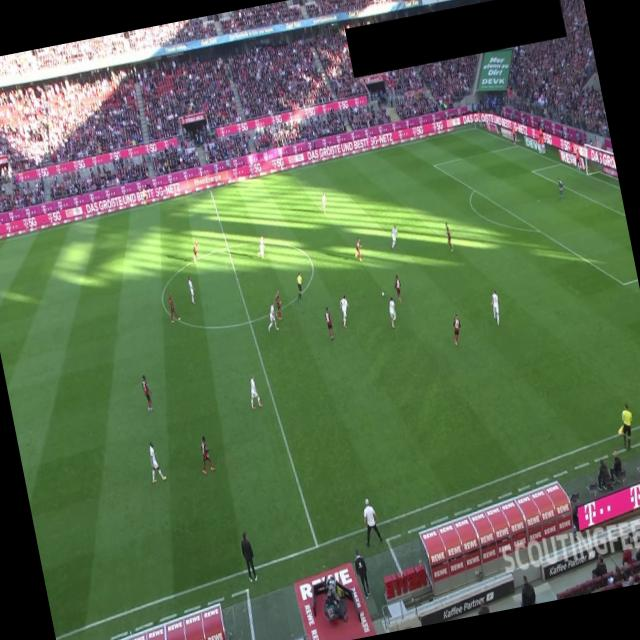ball: (381, 290, 385, 298)
goalkeeper: (556, 177, 566, 199)
player: (144, 440, 168, 484), (196, 434, 217, 474), (246, 374, 264, 411), (488, 288, 504, 326), (140, 373, 154, 412), (337, 294, 353, 328), (263, 302, 280, 333), (386, 296, 400, 330), (450, 313, 464, 346), (166, 291, 180, 323), (324, 306, 336, 340), (387, 224, 401, 250), (273, 290, 285, 320), (186, 275, 198, 305), (392, 274, 404, 304), (254, 235, 268, 260), (444, 222, 455, 252), (352, 238, 365, 262), (320, 192, 330, 214), (190, 241, 200, 262)
referee: (614, 401, 639, 453), (292, 272, 306, 302), (140, 185, 150, 208)
